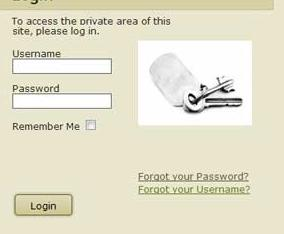button: (14, 193, 74, 216)
checkbox: (84, 119, 97, 131)
checkbox_with_label: (13, 118, 98, 132)
field: (11, 92, 113, 110), (11, 57, 112, 74)
field_with_label: (10, 83, 114, 111), (10, 50, 113, 76)
